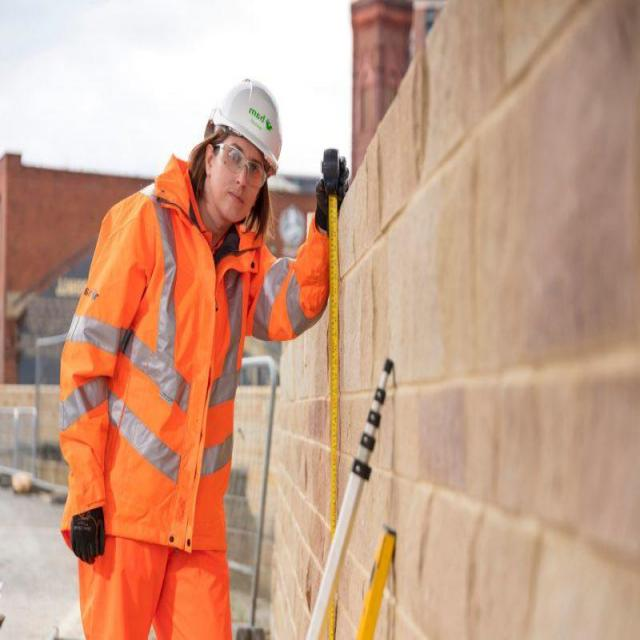Reflective-Jacket: (58, 182, 283, 564)
Safety-Helmet: (204, 67, 290, 177)
